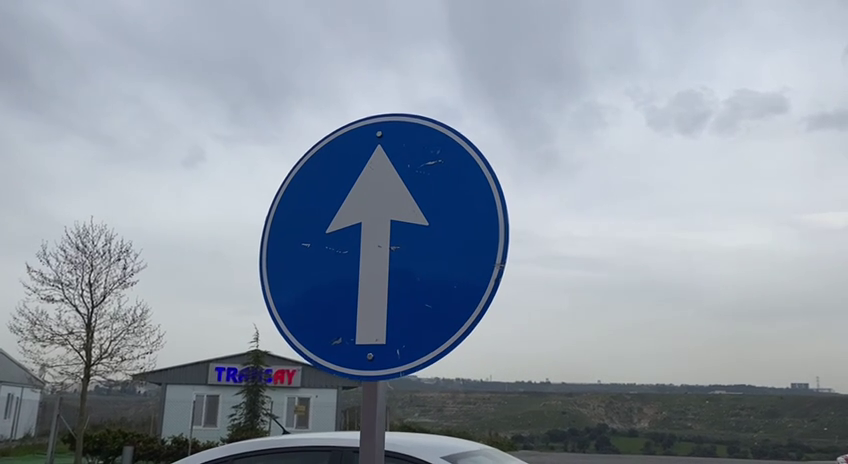forward: (250, 105, 518, 385)
